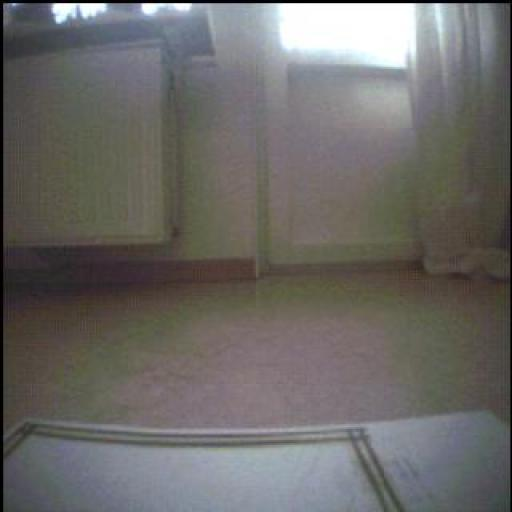Pad: (1, 407, 508, 512)
